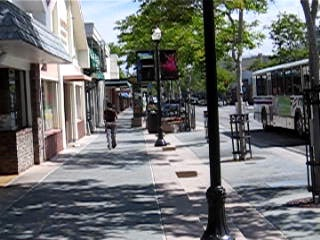person: (104, 102, 120, 153), (103, 102, 119, 153), (105, 102, 121, 153), (104, 101, 120, 152), (104, 103, 120, 154)
target_negative: (6, 87, 295, 155), (156, 24, 230, 165), (245, 14, 287, 210), (211, 80, 266, 161), (215, 159, 269, 239), (58, 211, 110, 231)
